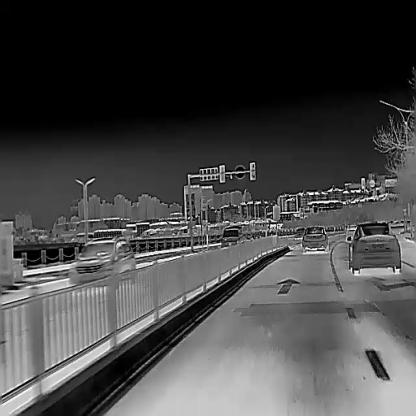car: (69, 235, 136, 284), (348, 221, 400, 273), (301, 225, 328, 251), (221, 225, 242, 248), (345, 224, 358, 242), (293, 226, 304, 239)
